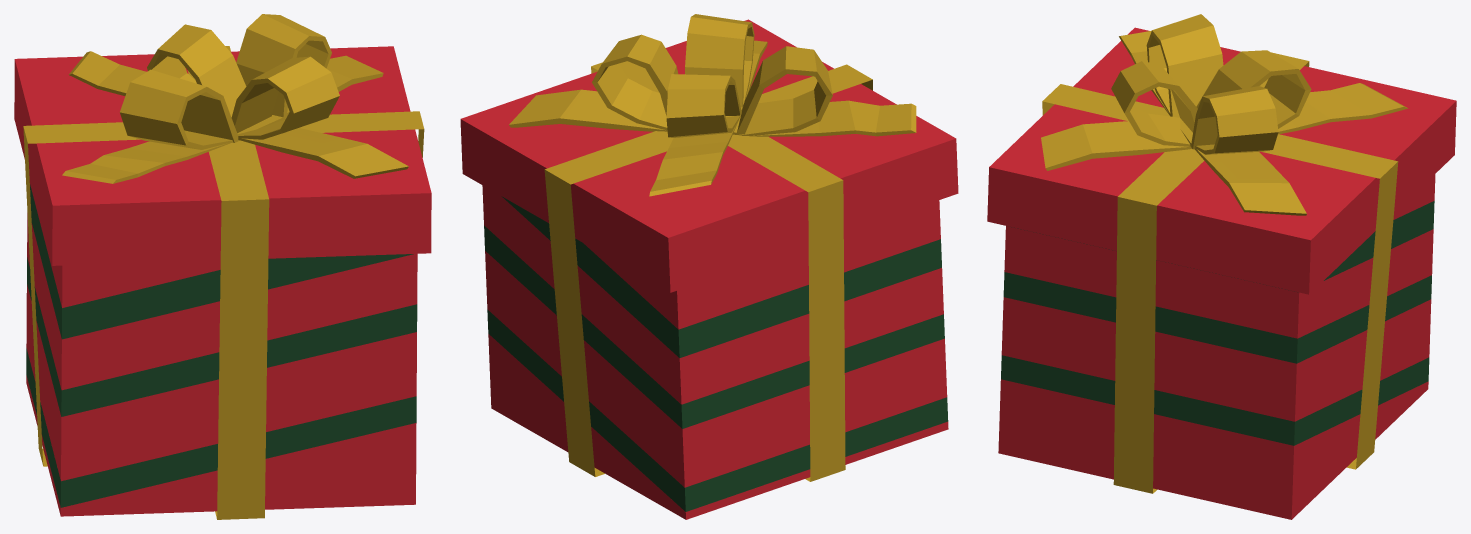
The model's file is gift.glb.
3 views of the same model, side by side, from view 1: azimuth 30°, elevation 25°; view 2: azimuth 150°, elevation 25°; view 3: azimuth 270°, elevation 25° (orthographic). The views are drawn at different scales.
Parts seen in each view (by area): view 1: Present_cube_decor; view 2: Present_cube_decor; view 3: Present_cube_decor.
Boxes of the visible parts, x1,y1,x2,y2 form: Present_cube_decor: (14, 14, 431, 519); Present_cube_decor: (460, 14, 958, 519); Present_cube_decor: (987, 14, 1456, 519).
Bounding box in the file's own units: 0.5808 × 0.5139 × 0.5807.
